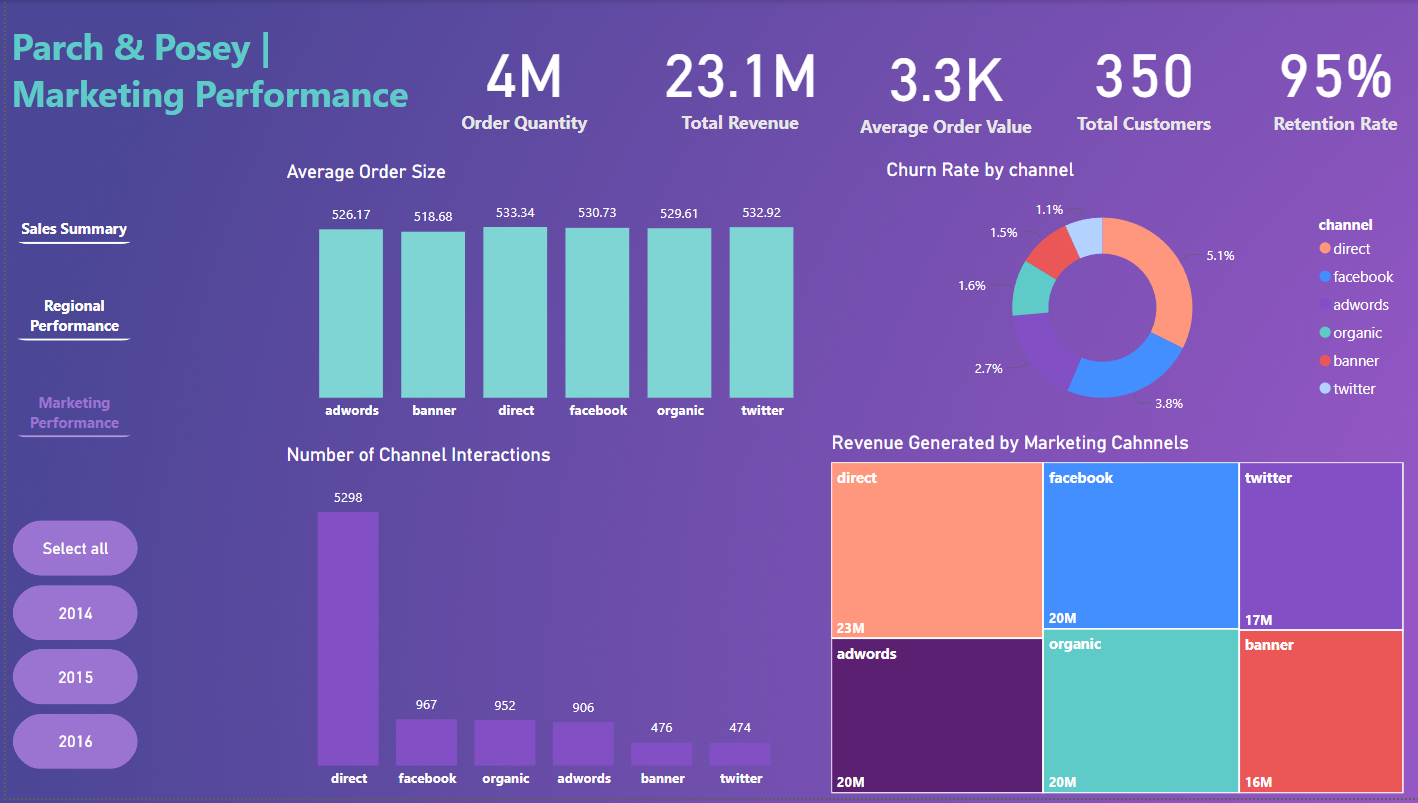

The page's visual inventory and layout, read from the dashboard file:
{"tool":"powerbi","page":{"name":"Marketing Performance","canvas":[1280,720],"ordinal":2},"visuals":[{"type":"textbox","box":[0,0,371.7,150.4],"z":0},{"type":"pageNavigator","box":[0,143.1,123.5,253.1],"z":1000},{"type":"card","fields":{"Values":["Sum(orders.total_amt_usd)"]},"box":[562.5,0,199.3,144.3],"z":2000},{"type":"card","fields":{"Values":["orders.Order Quantity"]},"box":[371.7,0,190.8,144.3],"z":3000},{"type":"card","fields":{"Values":["accounts.Total Customers"]},"box":[933,2.4,185.9,140.6],"z":4000},{"type":"card","fields":{"Values":["Avg(orders.total_amt_usd)"]},"box":[761.8,7.3,171.2,135.7],"z":5000},{"type":"card","fields":{"Values":["accounts.Retention Rate"]},"box":[1118.6,2.4,161.4,140.6],"z":6000},{"type":"treemap","title":"Revenue Generated by Marketing Cahnnels","fields":{"Group":["web_events.channel"],"Values":["Sum(orders.total_amt_usd)"]},"box":[739.8,388.9,540.5,331.4],"z":7000},{"type":"clusteredColumnChart","title":"Number of Channel Interactions","fields":{"Category":["web_events.channel"],"Y":["CountNonNull(web_events.channel)"]},"box":[248.2,399.9,491.6,320.4],"z":8000},{"type":"clusteredColumnChart","title":"Average Order Size","fields":{"Category":["web_events.channel"],"Y":["Avg(orders.total)"]},"box":[248.2,144.3,513.6,244.6],"z":9000},{"type":"donutChart","fields":{"Y":["accounts.Churn Rate"],"Category":["web_events.channel"]},"box":[788.7,143.1,491.6,245.8],"z":10000},{"type":"advancedSlicerVisual","fields":{"Values":["orders.occurred_at.Variation.Date Hierarchy.Year"]},"box":[1.2,464.7,123.5,236],"z":11000}]}

Visuals, with their boxes in screenshot pixels (x1, y1, x2, y2), scaled from the page's 1280x720 canvas onto the 1418x803 screenshot:
textbox: pyautogui.locateOnScreen(0, 0, 412, 168)
pageNavigator: pyautogui.locateOnScreen(0, 160, 137, 442)
card - Sum(orders.total_amt_usd): pyautogui.locateOnScreen(623, 0, 844, 161)
card - orders.Order Quantity: pyautogui.locateOnScreen(412, 0, 623, 161)
card - accounts.Total Customers: pyautogui.locateOnScreen(1034, 3, 1240, 159)
card - Avg(orders.total_amt_usd): pyautogui.locateOnScreen(844, 8, 1034, 159)
card - accounts.Retention Rate: pyautogui.locateOnScreen(1239, 3, 1417, 159)
"Revenue Generated by Marketing Cahnnels" treemap: pyautogui.locateOnScreen(820, 434, 1417, 802)
"Number of Channel Interactions" clusteredColumnChart: pyautogui.locateOnScreen(275, 446, 820, 802)
"Average Order Size" clusteredColumnChart: pyautogui.locateOnScreen(275, 161, 844, 434)
donutChart - accounts.Churn Rate x web_events.channel: pyautogui.locateOnScreen(874, 160, 1417, 434)
advancedSlicerVisual - orders.occurred_at.Variation.Date Hierarchy.Year: pyautogui.locateOnScreen(1, 518, 138, 781)
